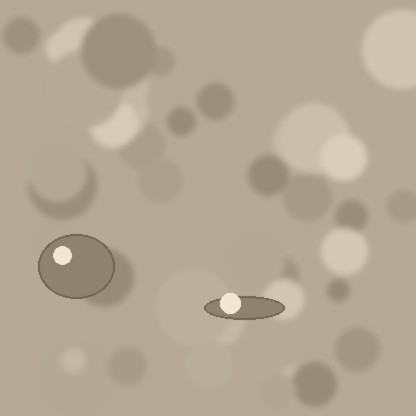gota: (38, 236, 114, 304), (204, 297, 284, 321)
